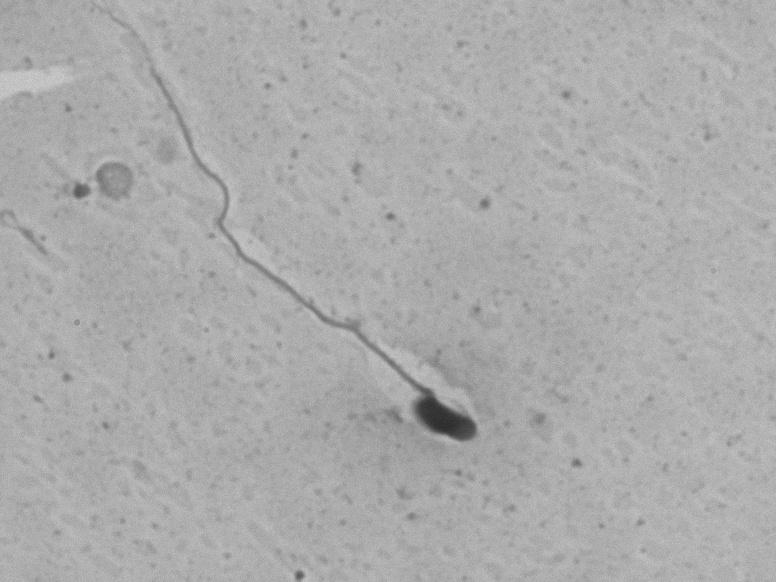Abnormal: (155, 35, 551, 453)
